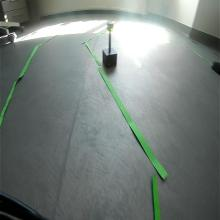green: (106, 21, 115, 33)
